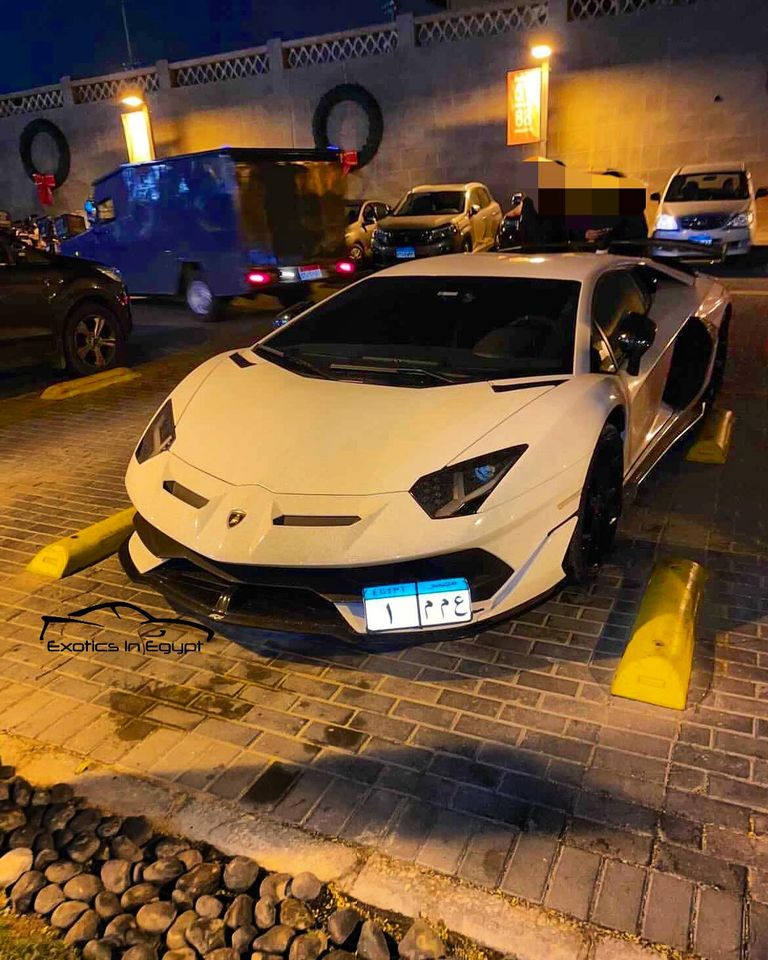carpl: (362, 571, 477, 634)
